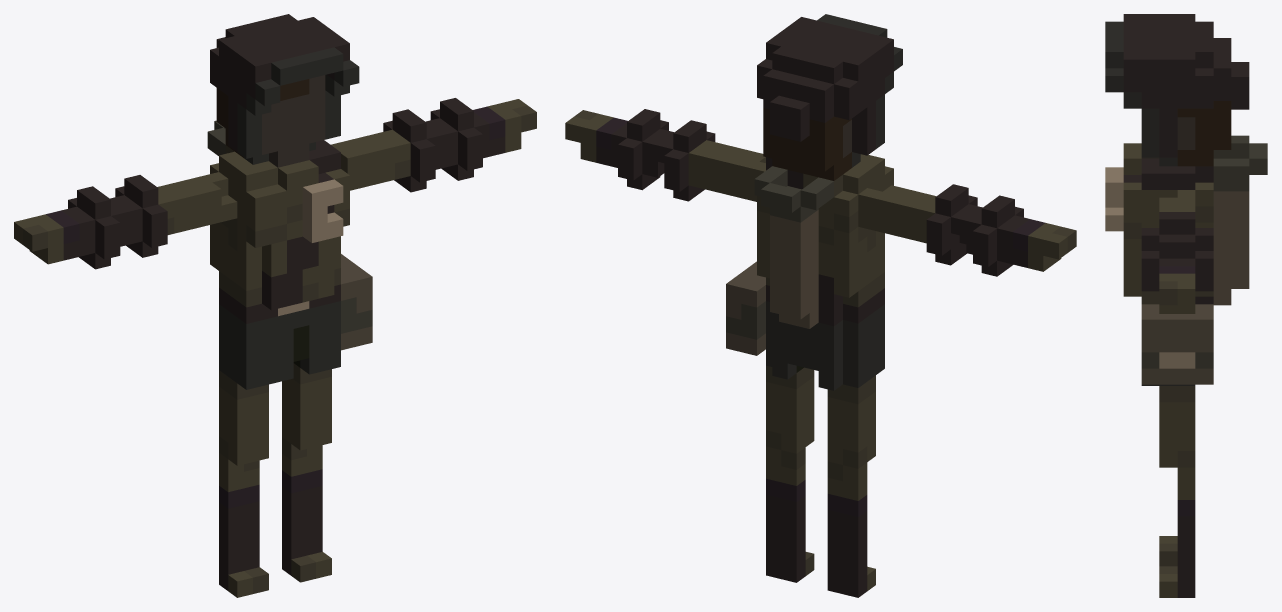
The model's file is TPose_Character08.glb.
3 renders of one model, left to right at view 1: azimuth 30°, elevation 25°; view 2: azimuth 150°, elevation 25°; view 3: azimuth 270°, elevation 25°, orthographic. The views are drawn at different scales.
Parts seen in each view (by area): view 1: Character08; view 2: Character08; view 3: Character08.
Boxes of the visible parts, x1,y1,x2,y2 form: Character08: (14,14,536,597); Character08: (565,14,1076,597); Character08: (1105,14,1267,597).
Size of the model in its own units: 1.94 by 2 by 0.5455.
Materials: 1 (1 with a texture image).
